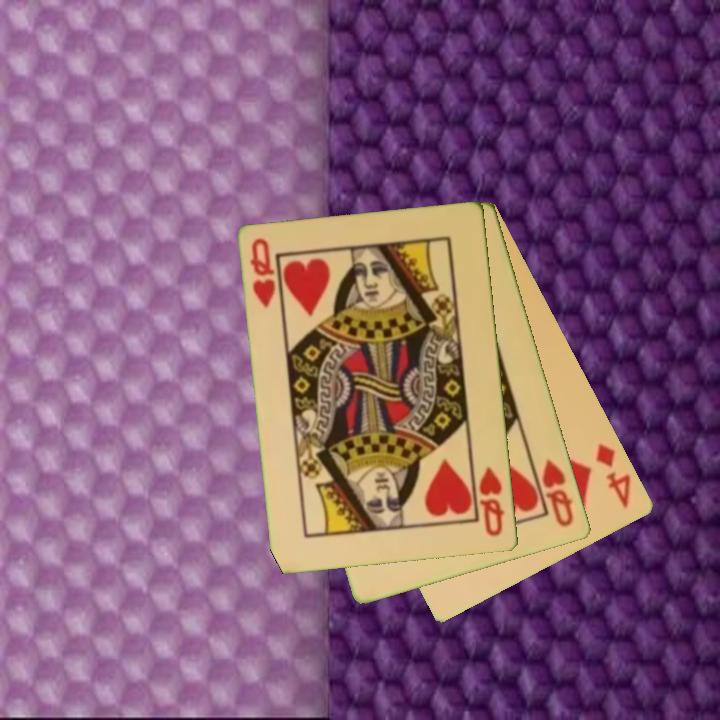4d: (592, 439, 635, 511)
Qh: (539, 455, 577, 530), (476, 463, 508, 540), (247, 235, 279, 312)
